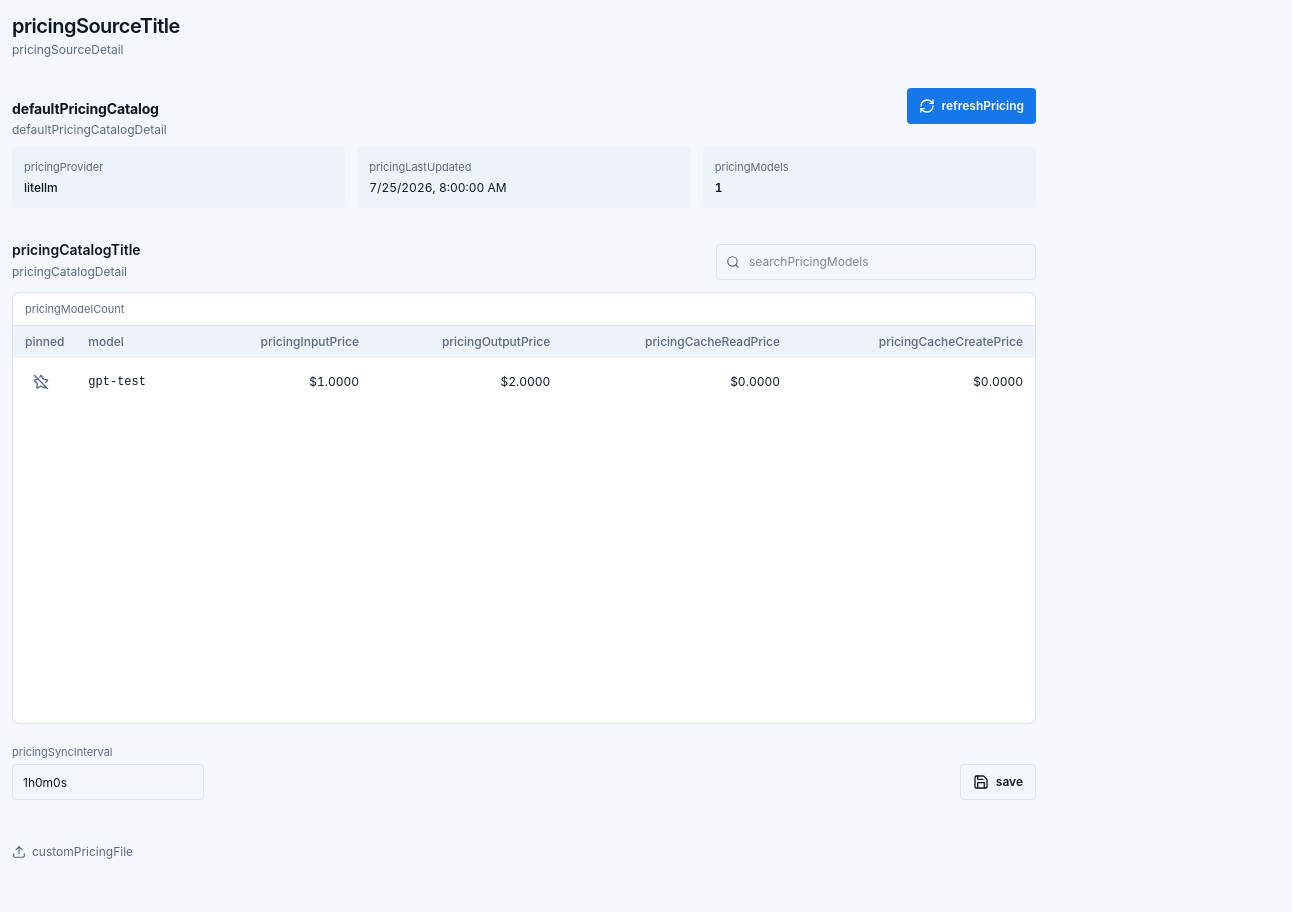
application settings › refreshes pricing from the configured source and shows completion
Expected: the heading "pricingSourceTitle" is shown, [12,12,180,40]
Expected: the text "gpt-test" is shown, [76,358,194,406]
Step 1. Type "gpt" into the search field labelled "searchPricingModels" → (876, 262), box [716,244,1036,280]
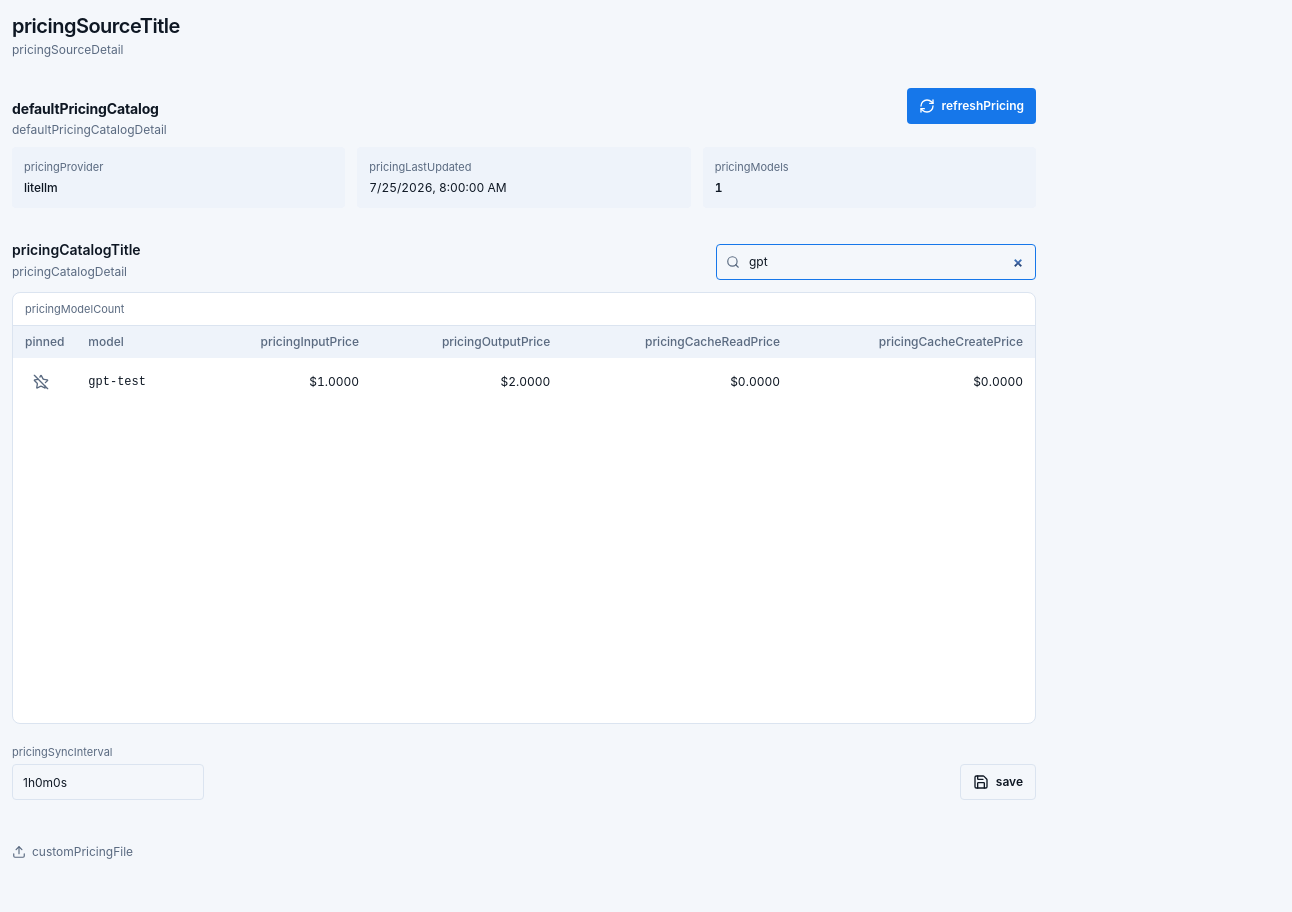
Step 2. Click the button "refreshPricing" → (972, 106), box [907,88,1036,124]
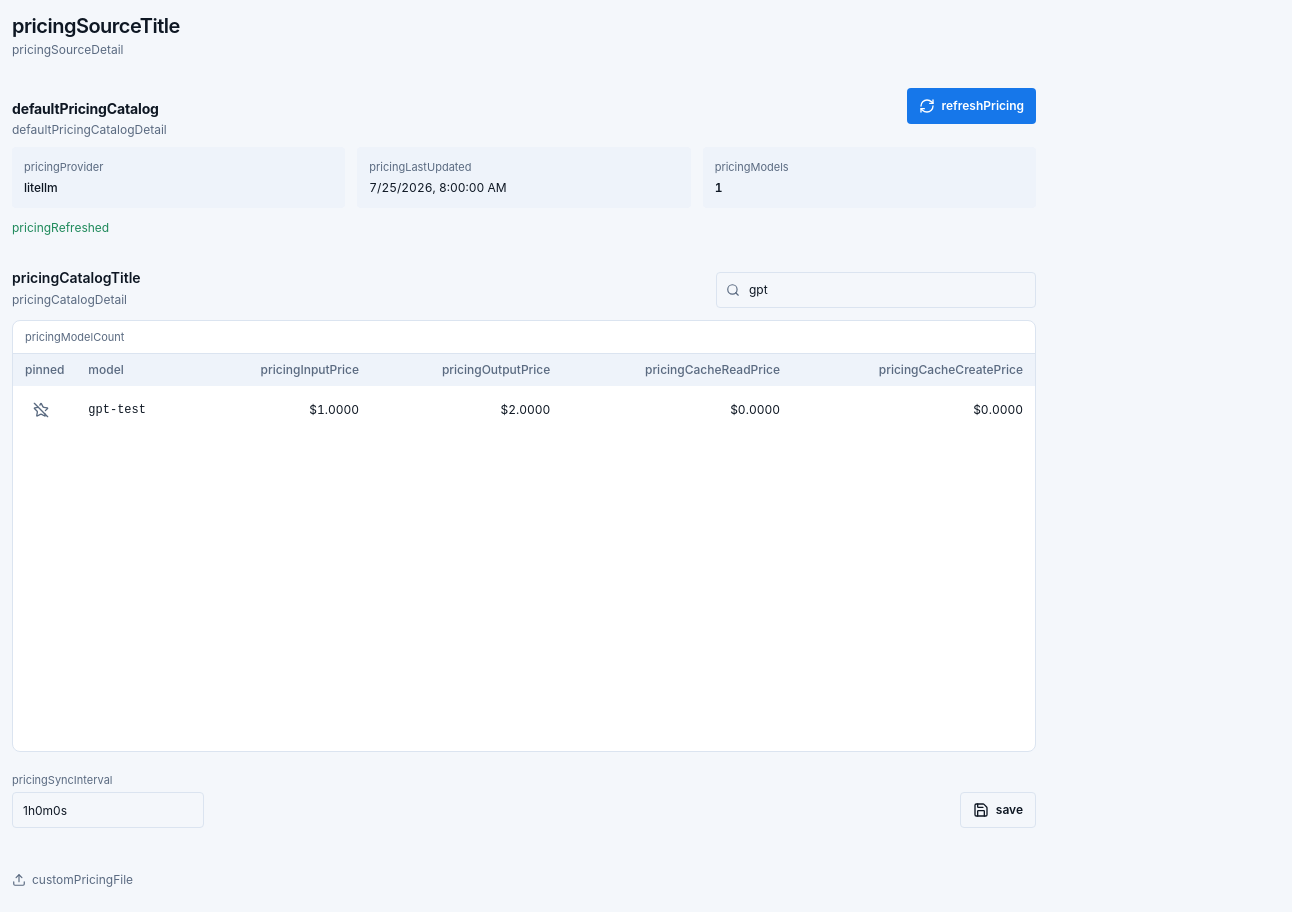
Expected: the text "pricingRefreshed" is shown, [12,220,109,235]
